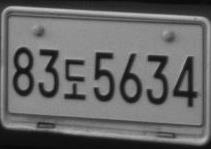3: (37, 48, 60, 99), (145, 54, 168, 105)
4: (172, 54, 198, 107)
5: (92, 50, 115, 102)
6: (118, 52, 143, 104)
8: (11, 46, 34, 96)
도: (63, 57, 86, 100)
